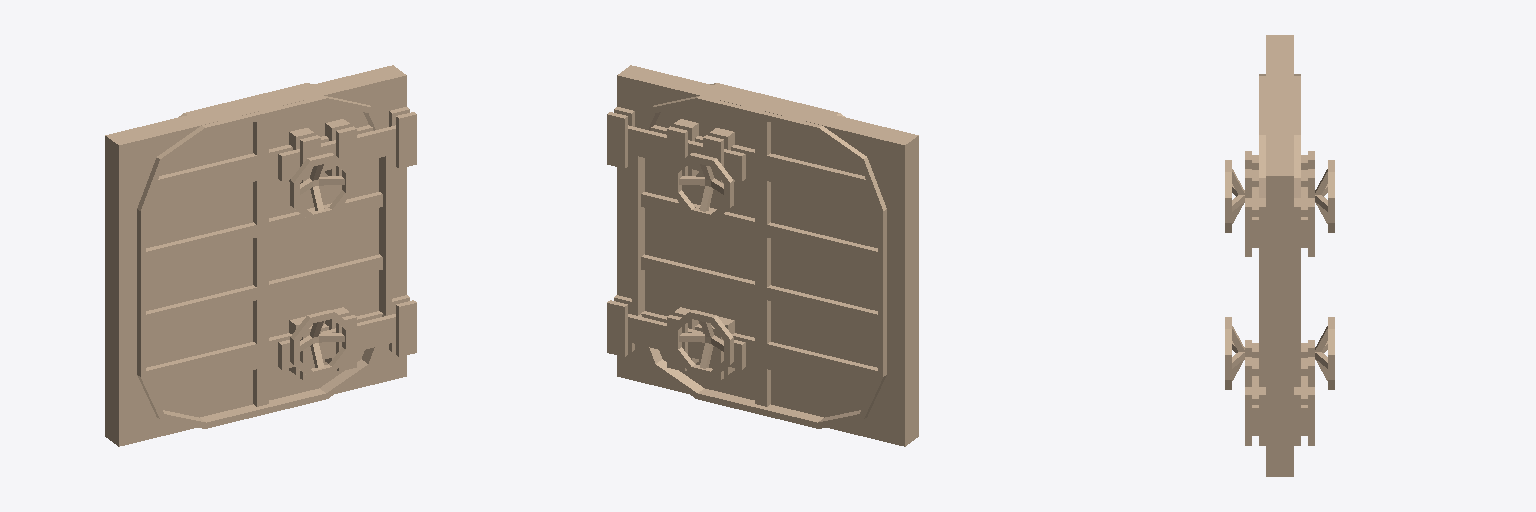
File: water_door.obj
The picture shows the model from 3 angles: view 1: azimuth 30°, elevation 25°; view 2: azimuth 150°, elevation 25°; view 3: azimuth 270°, elevation 25°; orthographic projection.
Visible parts, largest first — view 1: door, frame, bolt, spinny_lower, spinny_upper; view 2: door, frame, bolt, spinny_lower, spinny_upper; view 3: frame, spinny_lower, spinny_upper, door, bolt.
Boxes of the visible parts, <box> form: door: <box>146,105,382,417</box>; frame: <box>105,65,416,446</box>; bolt: <box>278,125,395,369</box>; spinny_lower: <box>290,310,351,377</box>; spinny_upper: <box>290,153,351,220</box>; door: <box>641,105,877,417</box>; frame: <box>607,65,918,446</box>; bolt: <box>628,125,745,369</box>; spinny_lower: <box>672,310,733,377</box>; spinny_upper: <box>672,153,733,220</box>; frame: <box>1245,35,1314,476</box>; spinny_lower: <box>1225,317,1334,389</box>; spinny_upper: <box>1225,160,1334,232</box>; door: <box>1245,151,1314,386</box>; bolt: <box>1252,155,1307,432</box>.
Bounding box in the file's own units: 3 × 3 × 1.